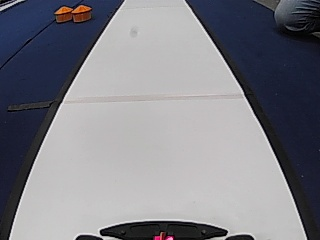granary: (53, 4, 72, 23), (72, 4, 92, 22)
